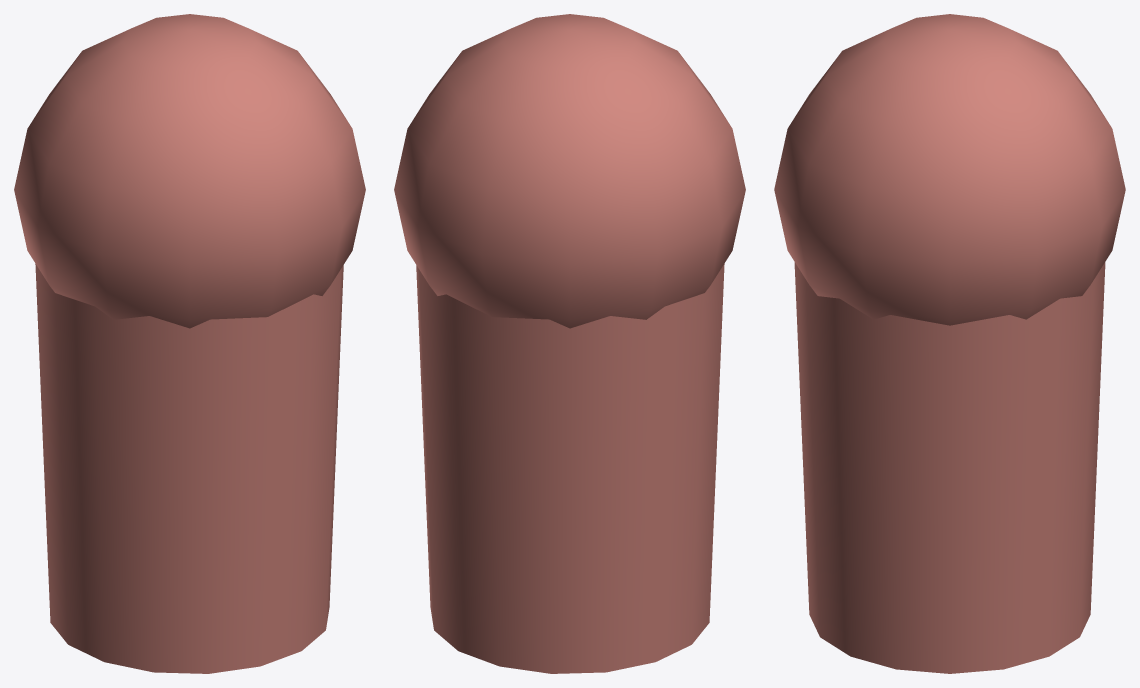
The model's file is gran_upperarm.glb.
3 renders of one model, left to right at view 1: azimuth 30°, elevation 25°; view 2: azimuth 150°, elevation 25°; view 3: azimuth 270°, elevation 25°, orthographic.
Parts seen in each view (by area): view 1: gran_upperarm; view 2: gran_upperarm; view 3: gran_upperarm.
Boxes of the visible parts, box(x1,y1,x2,y2) form: gran_upperarm: box(14, 14, 365, 673); gran_upperarm: box(394, 14, 745, 673); gran_upperarm: box(774, 14, 1125, 673).
Size of the model in its own units: 0.15 by 0.275 by 0.15.
